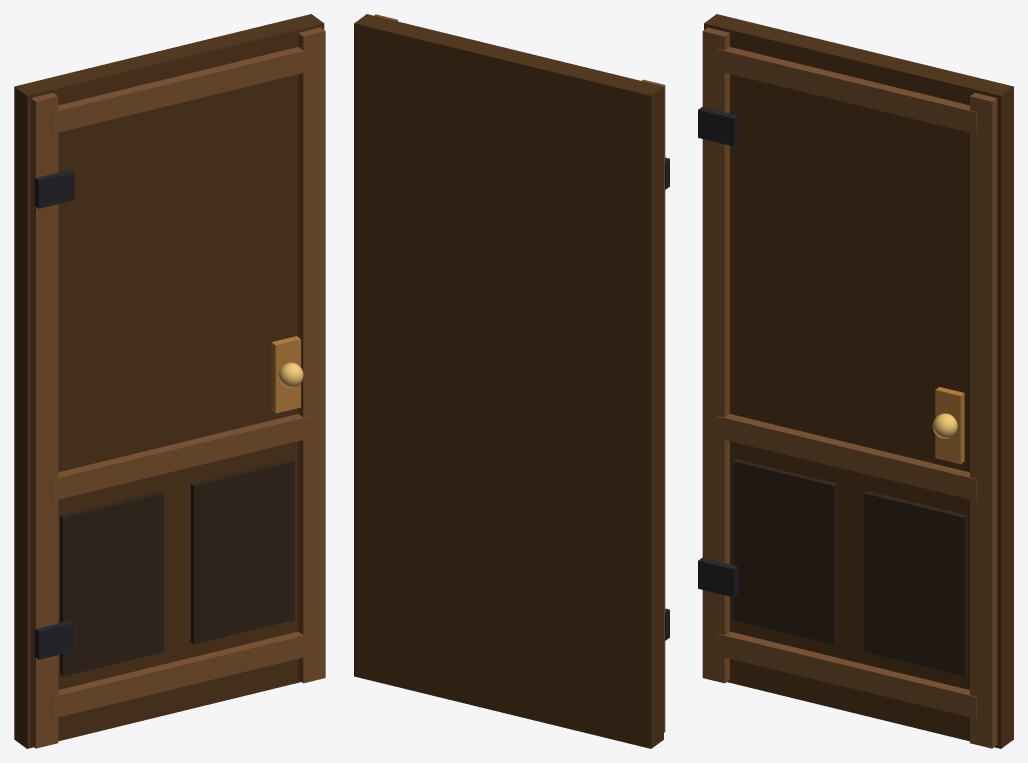
Rendered from mia-cabin_door.glb.
3 renders of one model, left to right at view 1: azimuth 30°, elevation 25°; view 2: azimuth 150°, elevation 25°; view 3: azimuth 330°, elevation 25°, orthographic.
Parts seen in each view (by area): view 1: Body_wood, Body_oak, Body_grain, Body_iron, Body_brass, Body_trim; view 2: Body_wood, Body_oak; view 3: Body_wood, Body_oak, Body_grain, Body_iron, Body_brass.
Boxes of the visible parts, x1,y1,x2,y2 form: Body_wood: (14, 14, 324, 748); Body_oak: (31, 27, 325, 748); Body_grain: (60, 459, 294, 676); Body_iron: (34, 169, 74, 659); Body_brass: (271, 336, 300, 413); Body_trim: (278, 362, 303, 387); Body_wood: (354, 14, 663, 748); Body_oak: (374, 14, 665, 732); Body_wood: (704, 14, 1013, 748); Body_oak: (702, 27, 997, 748); Body_grain: (733, 459, 968, 676); Body_iron: (698, 107, 737, 597); Body_brass: (935, 387, 964, 464).
Bounding box in the file's own units: 1 × 2.1 × 0.1775.
